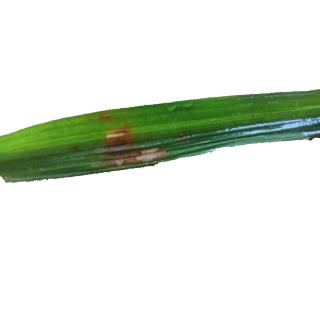Hawar-Daun: (109, 123, 136, 158), (134, 143, 164, 165), (172, 127, 190, 145)
